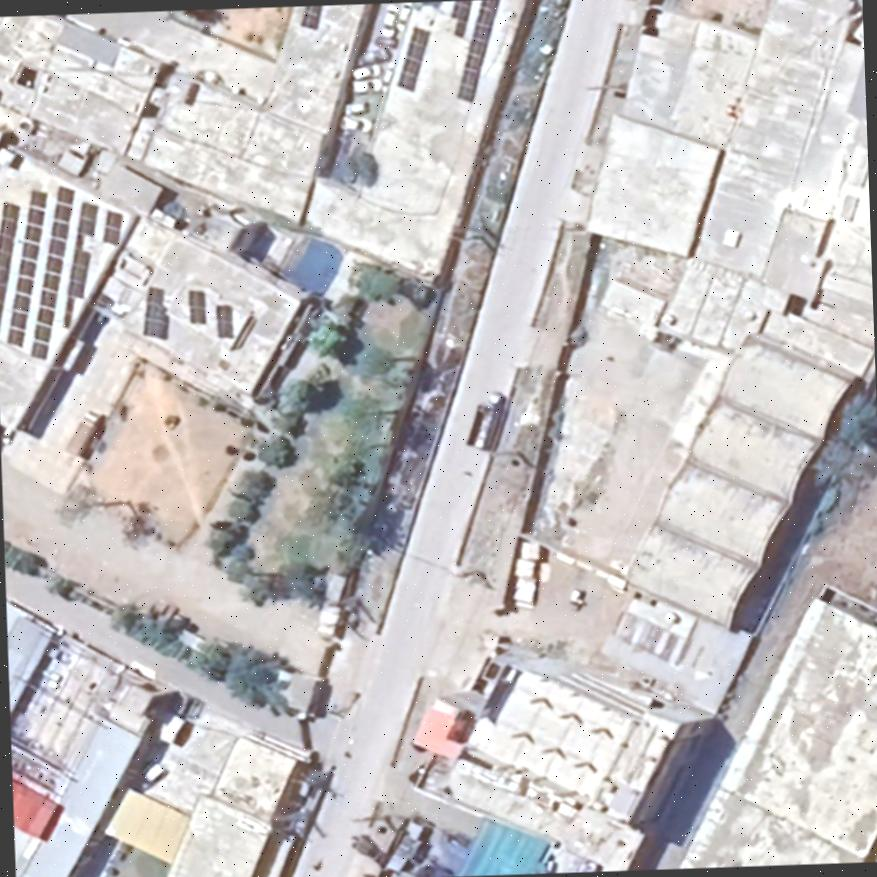Solarpanel: (0, 177, 79, 370), (433, 0, 503, 105), (59, 190, 104, 336), (392, 19, 438, 98), (134, 279, 167, 342), (99, 203, 133, 253), (212, 300, 243, 346), (184, 283, 211, 327), (291, 6, 327, 35)
